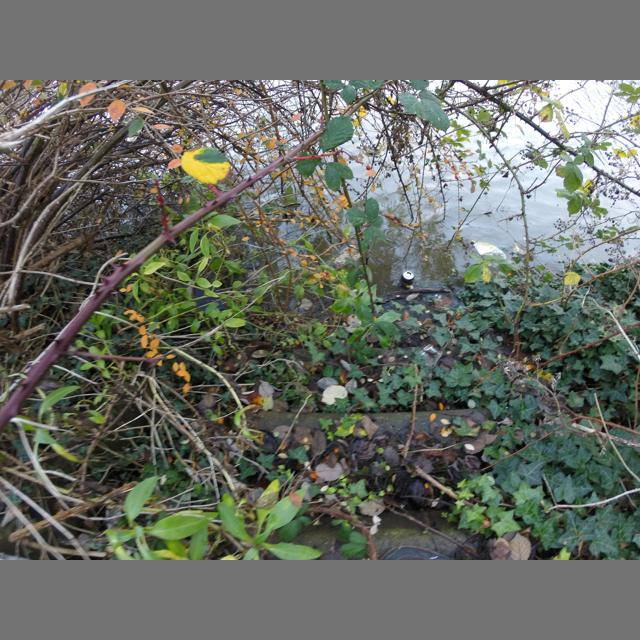litter: (473, 242, 506, 259), (400, 270, 415, 285)
